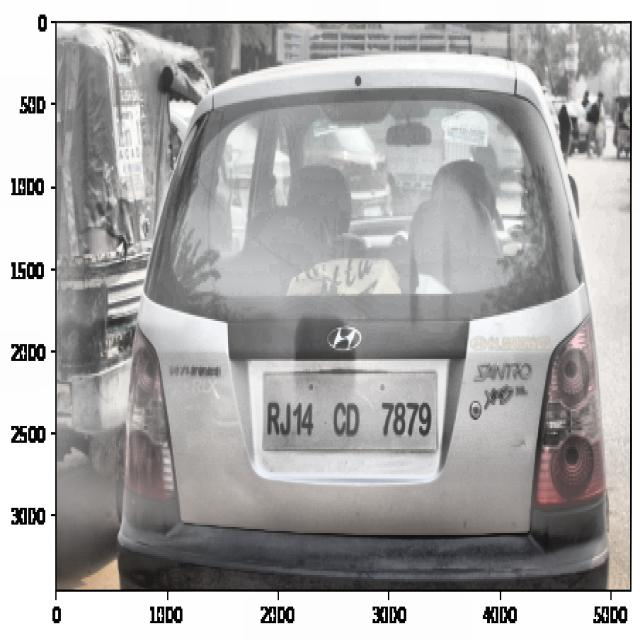license_plate: (260, 385, 436, 444)
